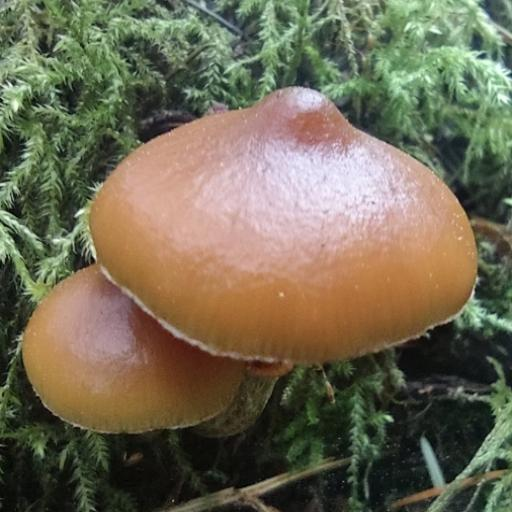mushroom: (21, 85, 480, 440)
